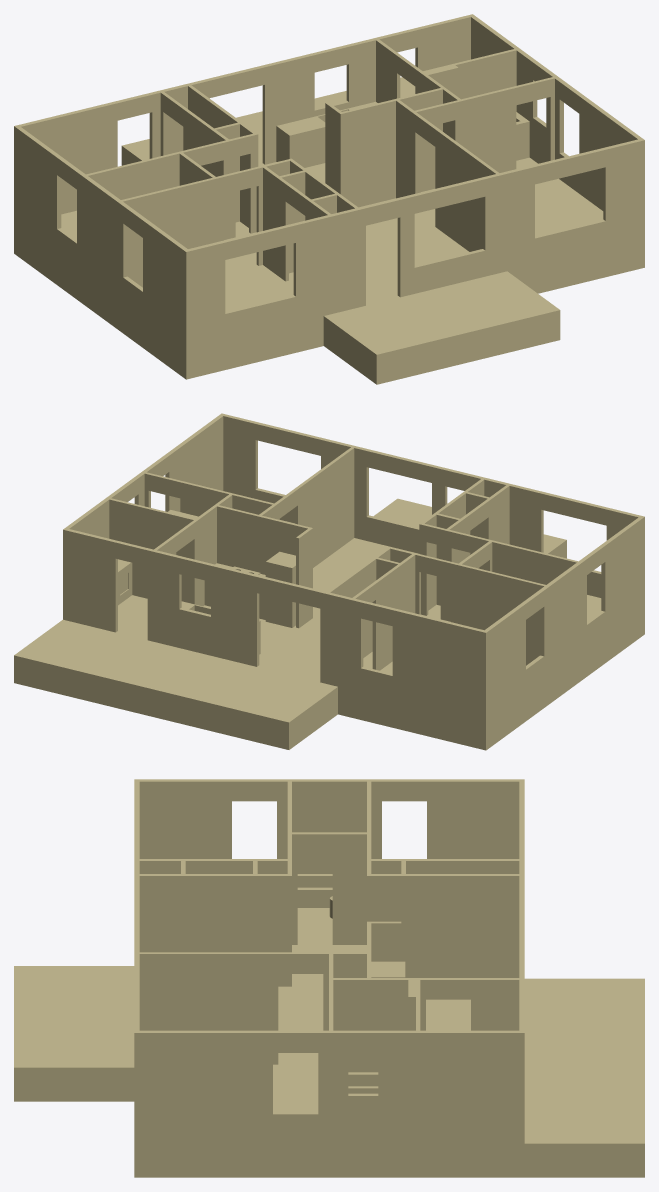
File: interior-training-structure.dae
The picture shows the model from 3 angles, top to bottom: view 1: azimuth 30°, elevation 25°; view 2: azimuth 150°, elevation 25°; view 3: azimuth 270°, elevation 25°; orthographic projection. The views are drawn at different scales.
Visible parts, largest first — view 1: instance_0; view 2: instance_0; view 3: instance_0.
Part boxes in pixels (x1=…): instance_0: x1=14, y1=14, x2=644, y2=384; instance_0: x1=14, y1=413, x2=644, y2=750; instance_0: x1=14, y1=779, x2=644, y2=1177.
Bounding box in the file's own units: 480 × 504 × 128.
